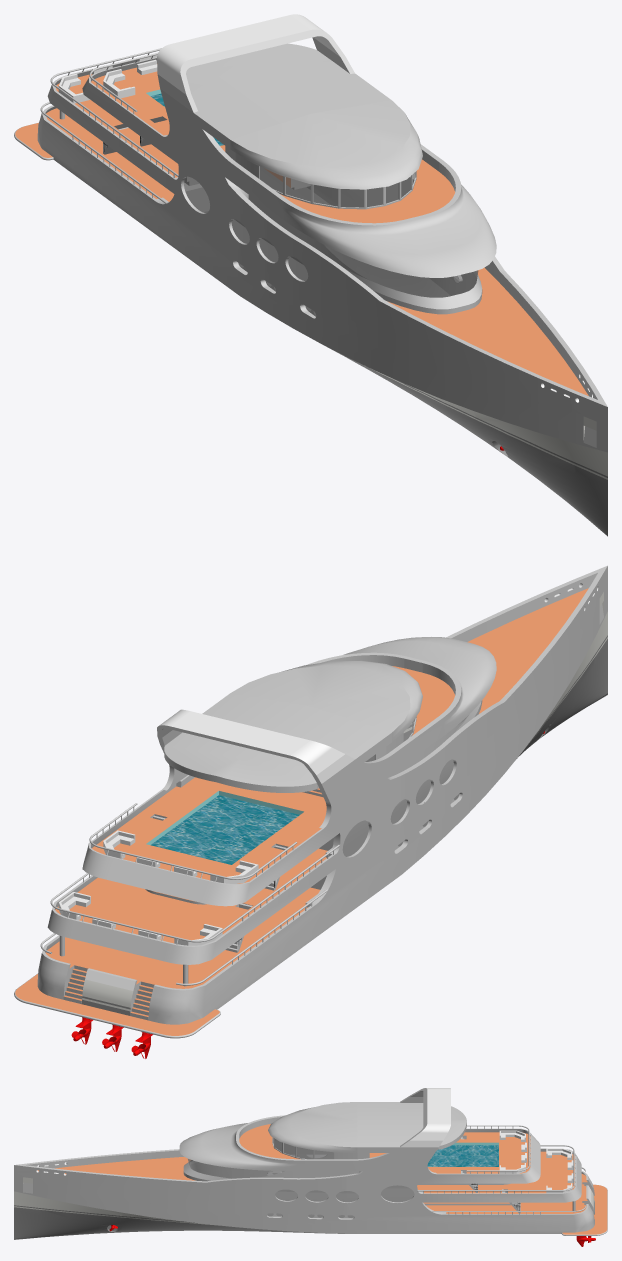
The model's file is Yacht bow axe.glb.
The picture shows the model from 3 angles, top to bottom: view 1: azimuth 30°, elevation 25°; view 2: azimuth 150°, elevation 25°; view 3: azimuth 270°, elevation 25°; orthographic projection. The views are drawn at different scales.
Parts seen in each view (by area): view 1: Default 150:150:150, [Color_B14], [Color_I18], [Color_008], [Color_000], [Color_001]; view 2: Default 150:150:150, [Color_B14], [Color_000], [Water_Pool_Light], [Color_I18], [Color_001], [Color_008], [Color_H03]; view 3: Default 150:150:150, [Color_B14], [Color_I18], [Color_000], [Color_008], [Color_001], [Water_Pool_Light].
Part boxes in pixels (x1,y1,x2,y2): Default 150:150:150: (14, 29, 607, 452); [Color_B14]: (15, 67, 588, 395); [Color_I18]: (203, 167, 607, 536); [Color_008]: (184, 167, 478, 315); [Color_000]: (58, 14, 592, 402); [Color_001]: (372, 369, 607, 479); Default 150:150:150: (14, 565, 607, 1038); [Color_B14]: (15, 588, 588, 1035); [Color_000]: (58, 583, 598, 990); [Water_Pool_Light]: (151, 795, 299, 864); [Color_I18]: (81, 635, 607, 1015); [Color_001]: (82, 592, 607, 1011); [Color_008]: (342, 715, 468, 856); [Color_H03]: (146, 791, 303, 845); Default 150:150:150: (14, 1088, 607, 1235); [Color_B14]: (37, 1124, 607, 1234); [Color_I18]: (14, 1188, 594, 1239); [Color_000]: (36, 1088, 590, 1202); [Color_008]: (188, 1138, 414, 1217); [Color_001]: (14, 1177, 594, 1225); [Water_Pool_Light]: (427, 1145, 498, 1166).
Bounding box in the file's own units: 296 × 365 × 1474.
14 materials, 2 textured.
